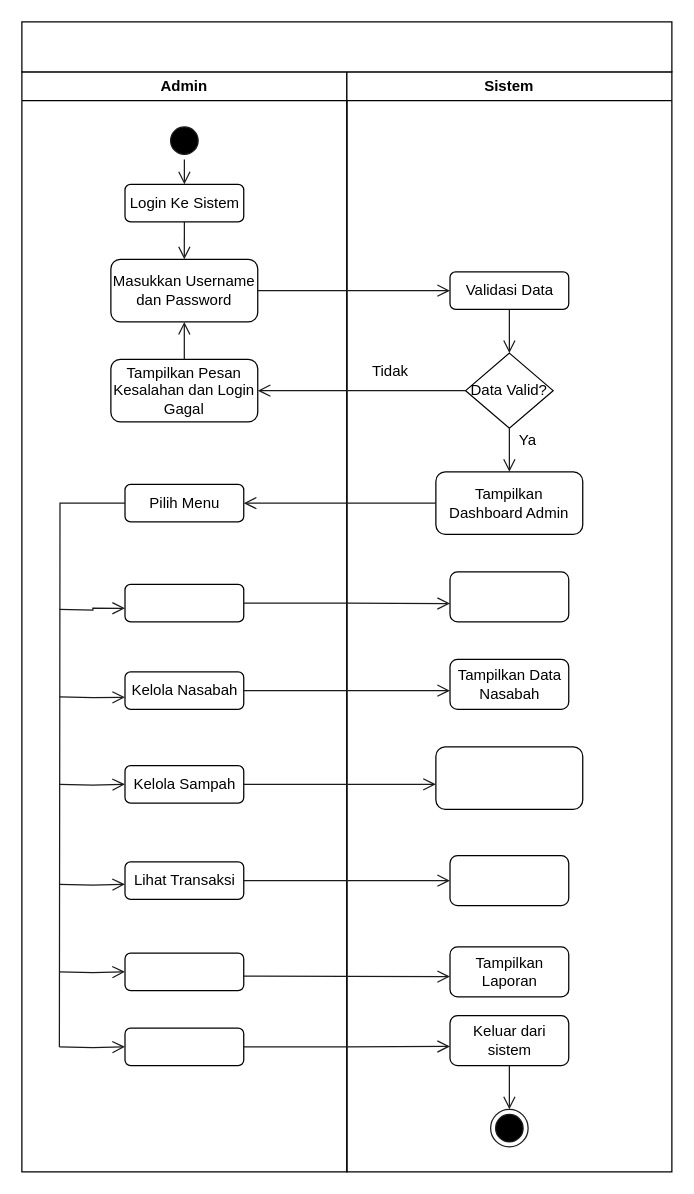
This 694x1194 diagram has some shape labels left out. Here are the shapes that lost their labels. From the top down, the centre of each, then its label:
At point (346, 46): "Activity Diagram - Admin".
At point (184, 602): "Kelola Petugas".
At point (509, 596): "Tampilkan Data Petugas".
At point (509, 777): "Tampilkan Data Sampah (Jenis, Stok, Harga)".
At point (509, 880): "Tampilkan Data Transaksi".
At point (184, 971): "LIhat Laporan".
At point (184, 1046): "Logout".
